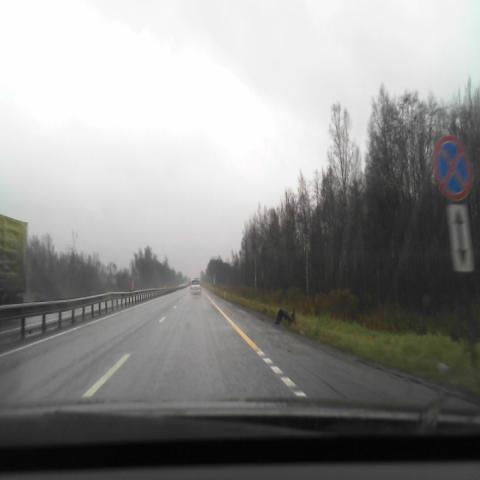3_27: (434, 136, 473, 202)
8_2_4: (447, 205, 474, 271)
